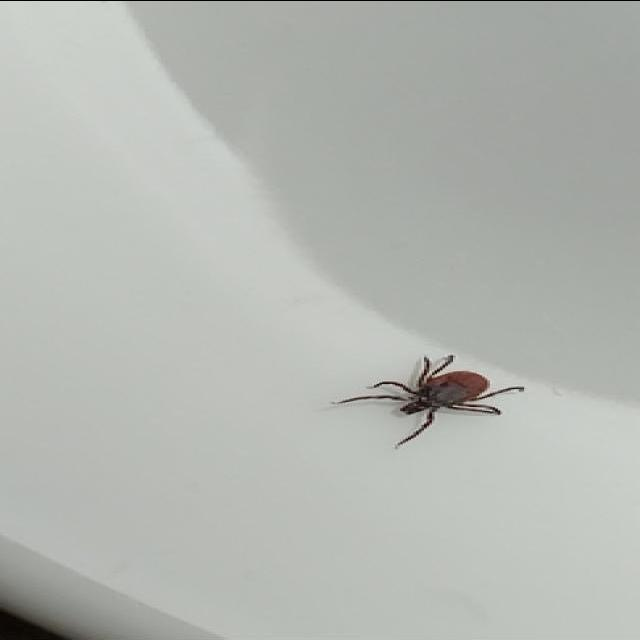Ixodes Ricinus-F: (329, 355, 527, 451)
